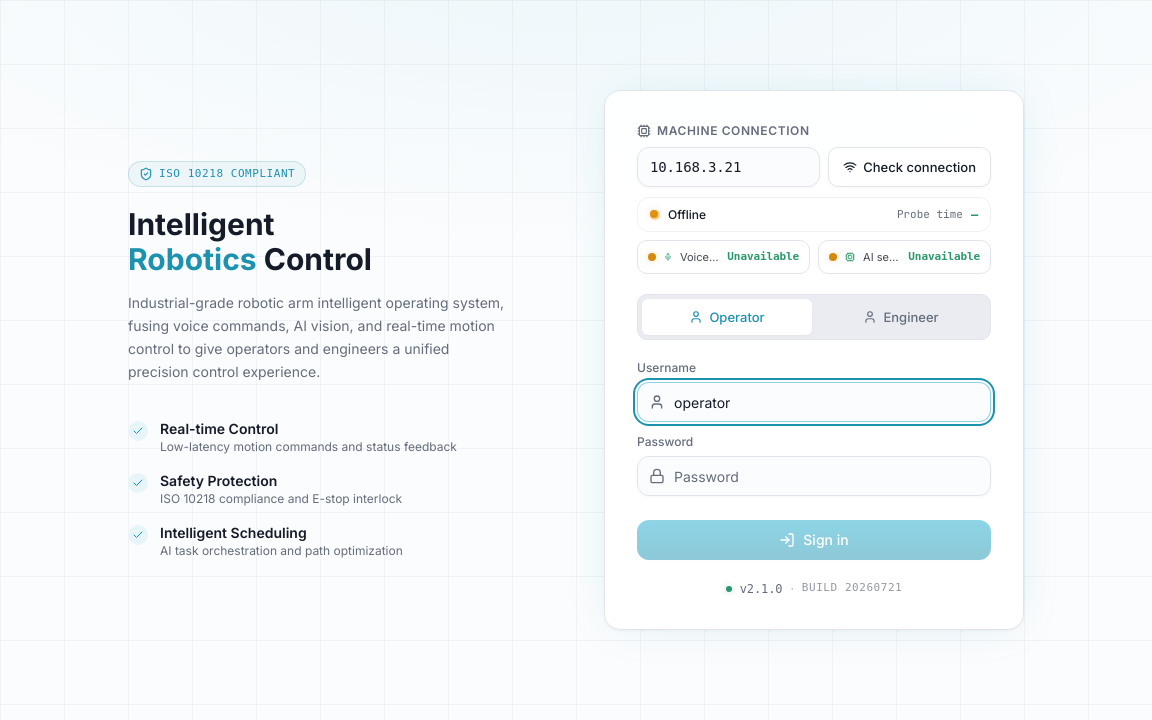
LoginPage › allows operator login when controller and AI diagnostics are unhealthy
This screenshot has width=1152, height=720.
Replace the text in the field with placeholder "Username" with "op": [814, 402] box [637,382,991,422]
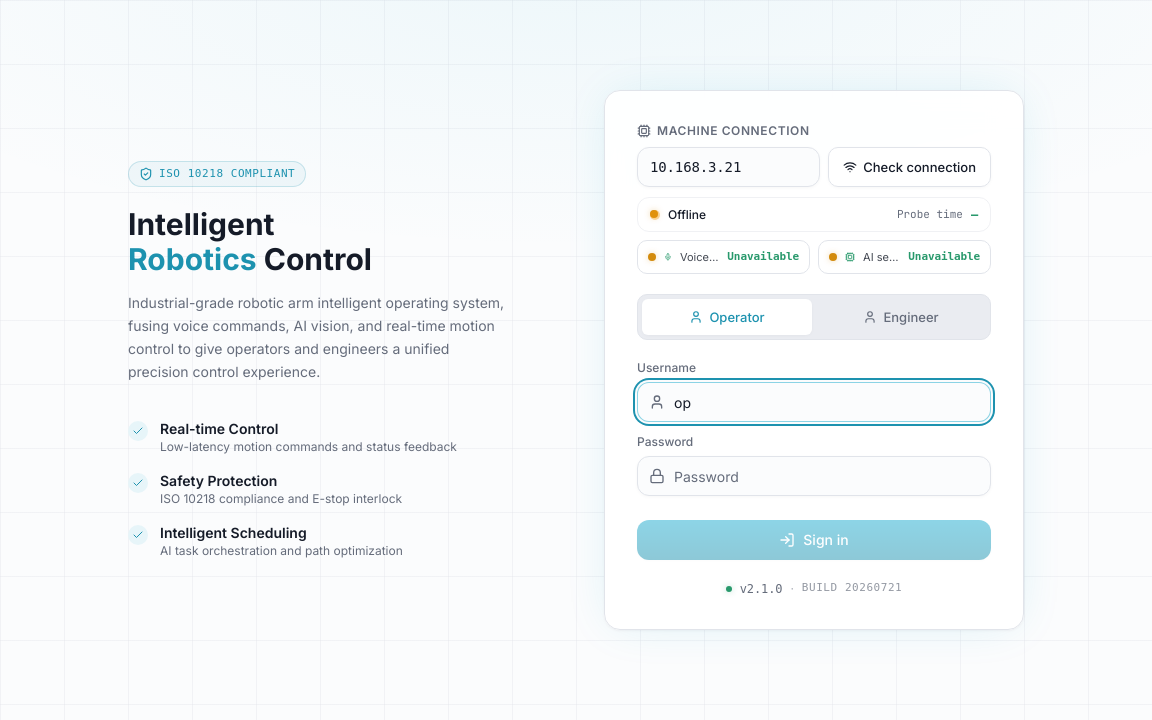
In the password field with placeholder "Password": [814, 476] box [637,456,991,496], type "pw"
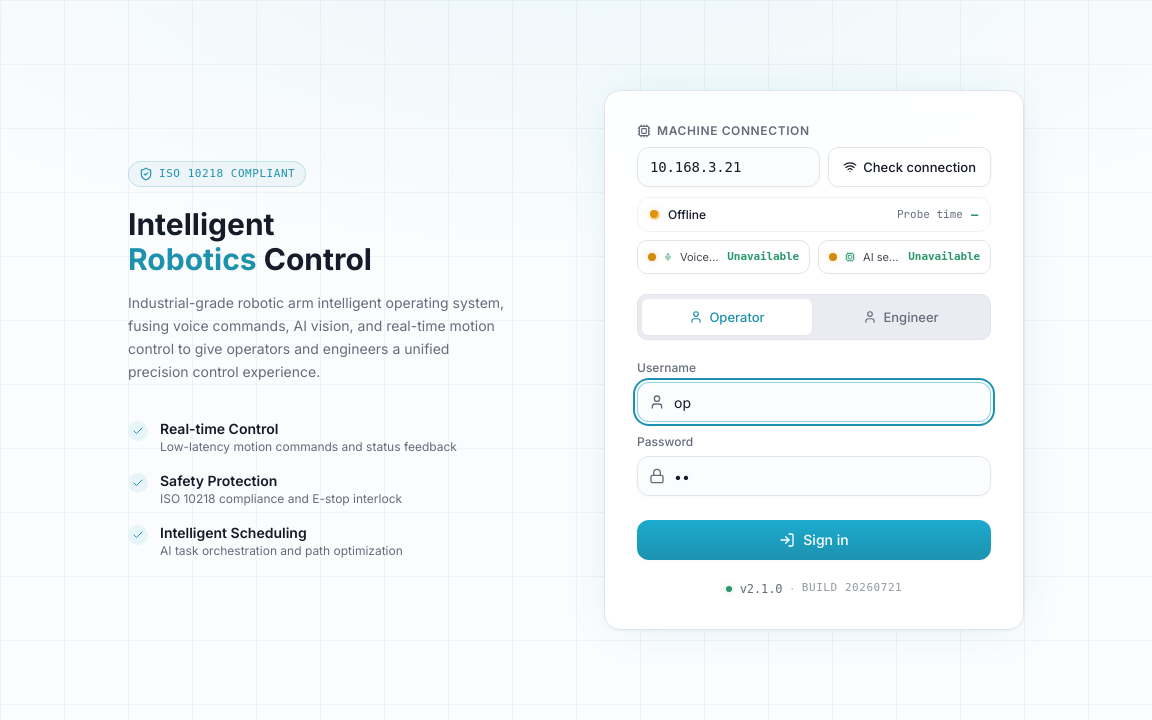
Result: the button "Sign in" is enabled at [637,520,991,560]
